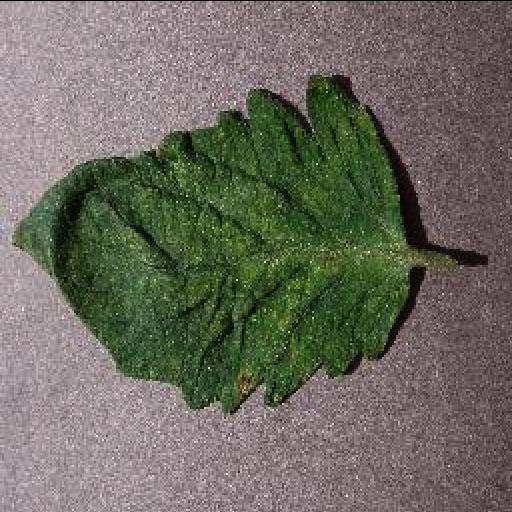disease_tomato: (10, 74, 412, 412)
